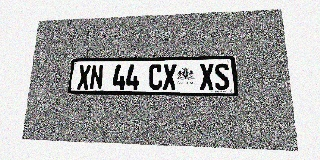4: (126, 64, 140, 90), (112, 65, 126, 90)
C: (149, 64, 162, 90)
N: (89, 65, 104, 89)
S: (214, 63, 230, 90)
X: (199, 63, 215, 90), (163, 64, 176, 90), (77, 65, 91, 89)
